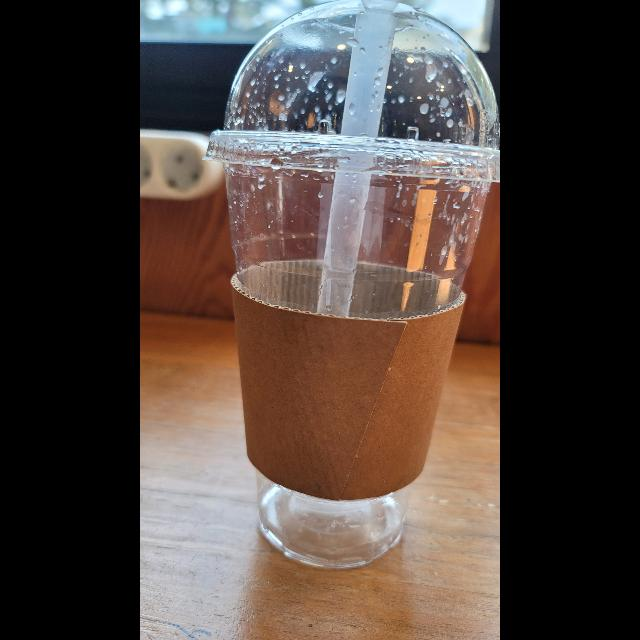plastic_cup: (204, 0, 501, 568)
plastic_cup_lid: (206, 1, 500, 186)
straw: (315, 0, 403, 312)
